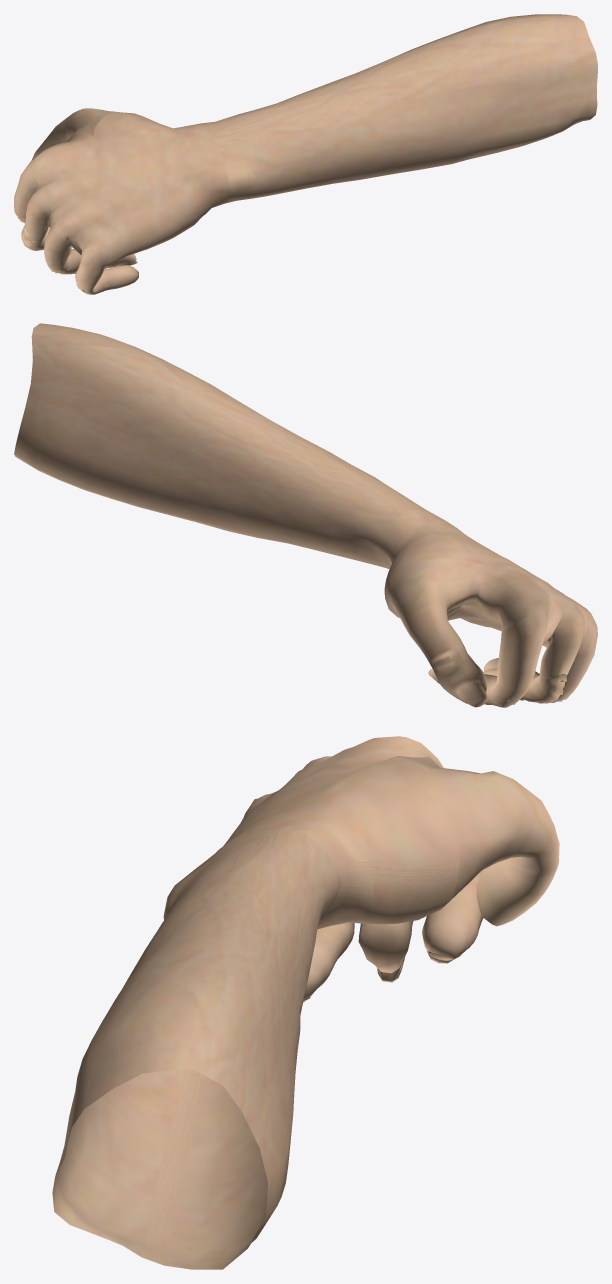
The model's file is Left_hand.obj.
The picture shows the model from 3 angles, top to bottom: view 1: azimuth 30°, elevation 25°; view 2: azimuth 150°, elevation 25°; view 3: azimuth 270°, elevation 25°; orthographic projection. The views are drawn at different scales.
Visible parts, largest first — view 1: LeftFore_4, Left_Hand, lMid1, lRing1, lThumb1, lIndex1, lPinky1, lThumb2, lPinky2, lPinky3; view 2: LeftFore_4, Left_Hand, lThumb1, lIndex1, lThumb2, lMid1, lThumb3, lRing1, lMid2; view 3: LeftFore_4, Left_Hand, lThumb1, lThumb3, lIndex3, lMid3, lThumb2, lRing3, lRing2.
Part boxes in pixels (<box>): LeftFore_4: <box>200,14,597,203</box>; Left_Hand: <box>30,111,230,268</box>; lMid1: <box>23,186,51,242</box>; lRing1: <box>44,222,71,270</box>; lThumb1: <box>65,108,112,140</box>; lIndex1: <box>14,162,37,221</box>; lPinky1: <box>75,251,103,293</box>; lThumb2: <box>32,118,67,159</box>; lPinky2: <box>82,268,118,294</box>; lPinky3: <box>110,265,138,288</box>; LeftFore_4: <box>14,323,425,569</box>; Left_Hand: <box>384,508,594,647</box>; lThumb1: <box>384,558,480,625</box>; lIndex1: <box>491,615,548,698</box>; lThumb2: <box>403,603,467,674</box>; lMid1: <box>539,606,584,679</box>; lThumb3: <box>434,653,487,707</box>; lRing1: <box>559,620,597,697</box>; lMid2: <box>523,674,566,702</box>; LeftFore_4: <box>52,831,341,1269</box>; Left_Hand: <box>176,736,459,929</box>; lThumb1: <box>399,756,540,898</box>; lThumb3: <box>476,860,555,926</box>; lIndex3: <box>422,902,478,963</box>; lMid3: <box>358,921,413,982</box>; lThumb2: <box>505,790,559,875</box>; lRing3: <box>303,933,337,1002</box>; lRing2: <box>317,922,354,962</box>.
Bounding box in the file's own units: 14.84 × 5.27 × 6.44.
Materials: 1 (1 with a texture image).
